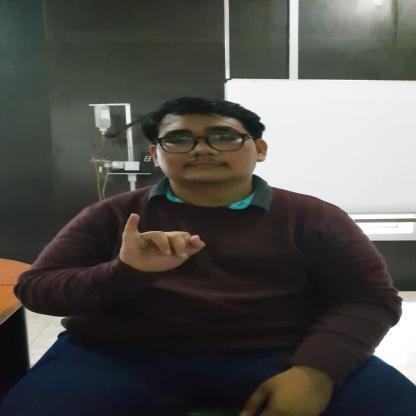I: (111, 209, 209, 274)
